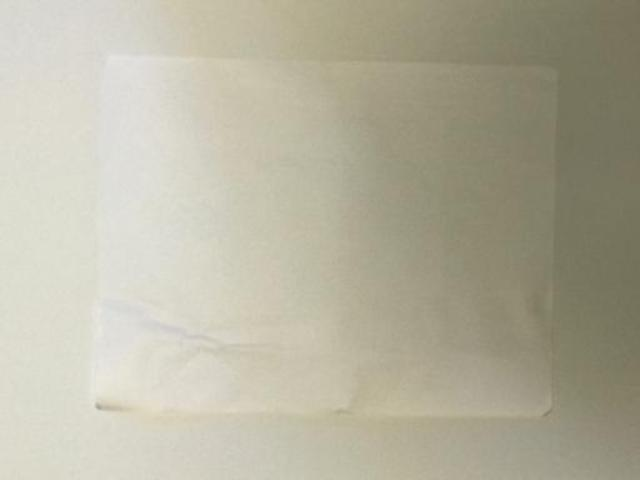cardboard paper: (96, 54, 554, 414)
